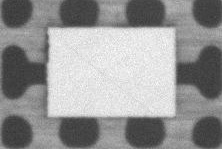DIE_CRACK: (86, 26, 222, 76)
